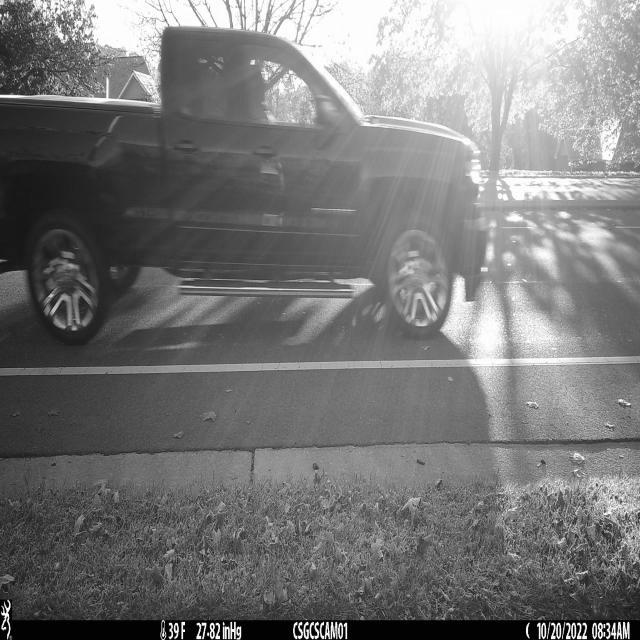Pickup: (0, 28, 487, 346)
